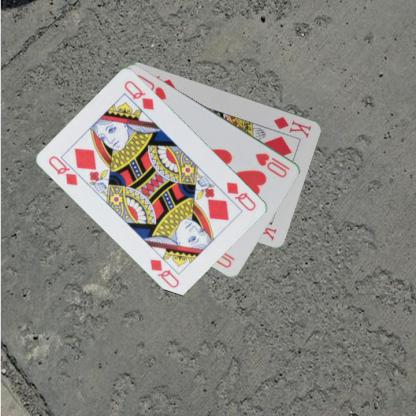10h: (253, 150, 292, 179)
Kd: (271, 114, 313, 139)
Qd: (46, 153, 87, 187), (224, 179, 258, 213)
